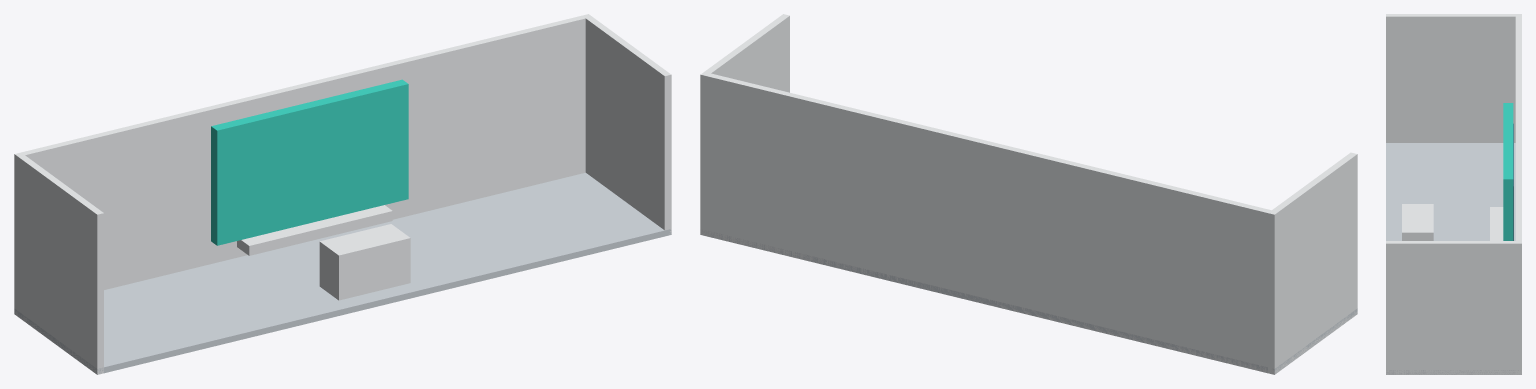
3 views of the same model, side by side, from view 1: azimuth 30°, elevation 25°; view 2: azimuth 150°, elevation 25°; view 3: azimuth 270°, elevation 25° (orthographic). The views are drawn at different scales.
Visible parts, largest first — view 1: Exhibition Booth Concept; view 2: Exhibition Booth Concept; view 3: Exhibition Booth Concept.
Part boxes in pixels (x1=…): Exhibition Booth Concept: x1=14, y1=14, x2=671, y2=374; Exhibition Booth Concept: x1=700, y1=14, x2=1357, y2=374; Exhibition Booth Concept: x1=1386, y1=14, x2=1521, y2=374.
Size of the model in its own units: 12 by 3.2 by 3.
